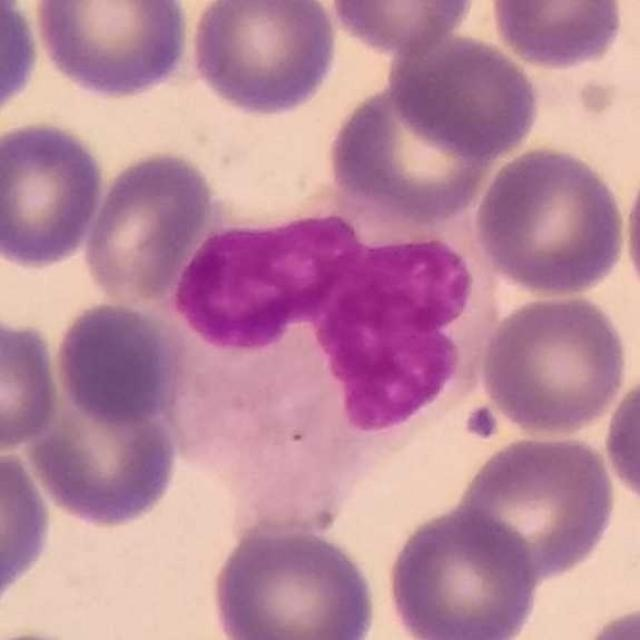Monocyte: (169, 195, 491, 533)
Platelets: (461, 402, 502, 444)
RBC: (20, 358, 184, 531), (324, 76, 497, 226), (453, 430, 620, 582), (472, 142, 631, 298), (477, 290, 630, 438), (79, 146, 217, 309), (382, 503, 542, 640), (206, 521, 383, 640), (388, 31, 544, 159), (186, 0, 342, 119), (50, 297, 190, 429), (0, 117, 109, 270), (30, 0, 194, 101), (486, 0, 628, 71), (0, 441, 56, 620), (0, 310, 63, 454), (327, 0, 480, 58), (600, 365, 640, 517), (0, 1, 43, 127), (619, 148, 640, 309), (576, 601, 640, 640)
